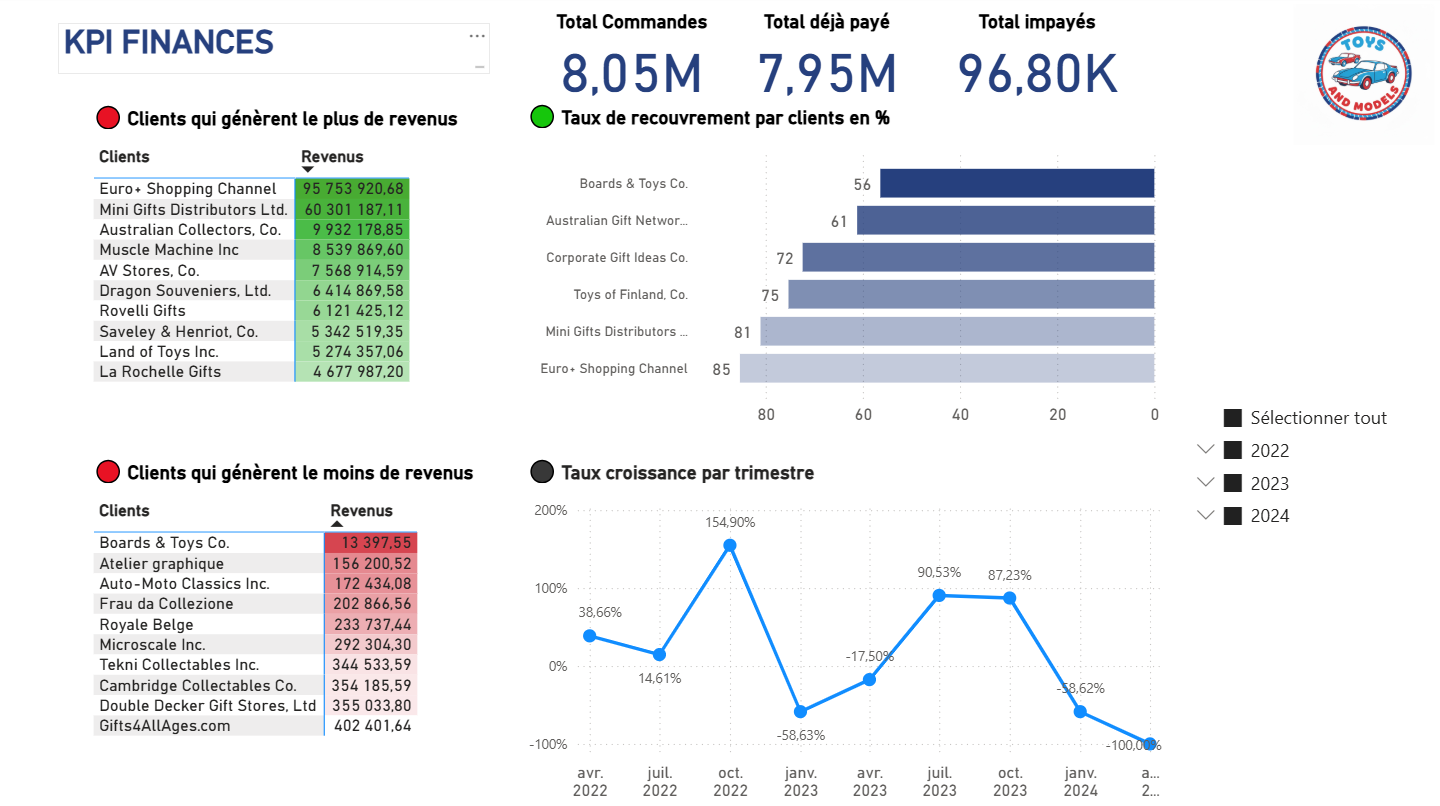

This screenshot's page, from the dashboard's own definition file:
{"tool":"powerbi","page":{"name":"Finances","canvas":[1280,720],"ordinal":2},"visuals":[{"type":"card","title":"Total Commandes","fields":{"Values":["Sum(Taux_recouvrement.Montant_du_total_des_commandes)"]},"box":[437,12.3,251.6,81.1],"z":0},{"type":"card","title":"Total déjà payé","fields":{"Values":["Sum(Taux_recouvrement.Montant_total_deja_paye)"]},"box":[651.7,12.3,168.4,81.1],"z":1000},{"type":"card","title":"Total impayés","fields":{"Values":["Sum(Taux_recouvrement.Montant_impaye)"]},"box":[820.1,12.3,204.2,81.1],"z":2000},{"type":"image","box":[1144.7,0,135.3,138.3],"z":2001},{"type":"textbox","title":"KPI FINANCES","box":[54.1,23.9,383.1,45.2],"z":2002},{"type":"barChart","title":"🟢 Taux de recouvrement par clients en %","fields":{"Category":["Taux_recouvrement.Nom_du_client"],"Y":["Sum(Taux_recouvrement.Taux_de_recouvrement)"]},"box":[465.5,93.1,573.7,292.6],"z":2003},{"type":"pivotTable","title":"🔴 Clients qui génèrent le plus de revenus","fields":{"Rows":["DIM_CUSTOMERS.customerName"],"Values":["FACT_SALES.Total_Paiement"]},"box":[81.1,93.7,384.2,291.6],"z":2004},{"type":"pivotTable","title":"🔴 Clients qui génèrent le moins de revenus","fields":{"Rows":["DIM_CUSTOMERS.customerName"],"Values":["FACT_SALES.Total_Paiement"]},"box":[81,407.8,385.2,312.2],"z":2005},{"type":"areaChart","title":"⚫ Taux croissance par trimestre","fields":{"Y":["FACT_SALES.Taux croissance"],"Category":["DIM_DATES.Dates_possibles.Variation.Hiérarchie de dates.Année","DIM_DATES.Dates_possibles.Variation.Hiérarchie de dates.Trimestre"]},"box":[465.5,407.9,572.8,312.1],"z":2006},{"type":"slicer","fields":{"Values":["DIM_DATES.year","DIM_DATES.quarter"]},"box":[1050.7,353.8,229.7,245.6],"z":2007}]}

Visuals, with their boxes in screenshot pixels (x1, y1, x2, y2), scaled from the page's 1280x720 canvas onto the 1440x806 screenshot:
"Total Commandes" card: Rect(492, 14, 775, 105)
"Total déjà payé" card: Rect(733, 14, 923, 105)
"Total impayés" card: Rect(923, 14, 1152, 105)
image: Rect(1288, 0, 1439, 155)
"KPI FINANCES" textbox: Rect(61, 27, 492, 77)
"🟢 Taux de recouvrement par clients en %" barChart: Rect(524, 104, 1169, 432)
"🔴 Clients qui génèrent le plus de revenus" pivotTable: Rect(91, 105, 523, 431)
"🔴 Clients qui génèrent le moins de revenus" pivotTable: Rect(91, 457, 524, 805)
"⚫ Taux croissance par trimestre" areaChart: Rect(524, 457, 1168, 805)
slicer - DIM_DATES.year x DIM_DATES.quarter: Rect(1182, 396, 1439, 671)
